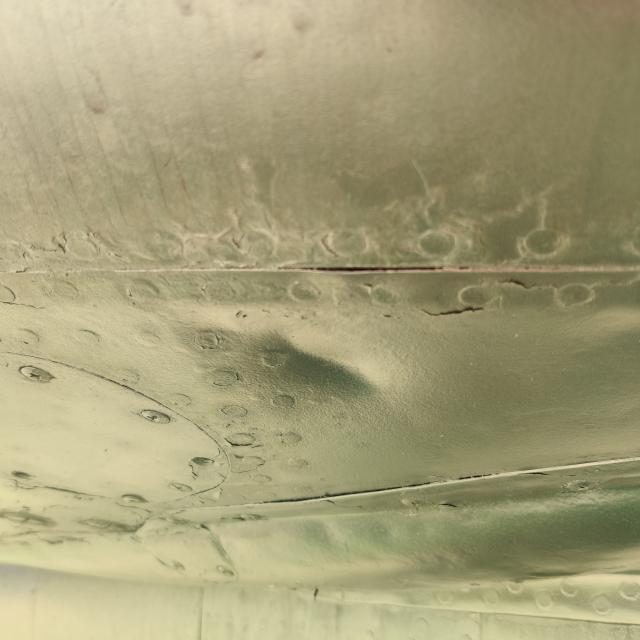dent: (204, 288, 408, 440)
